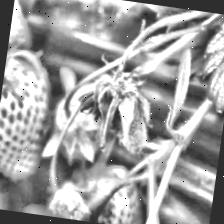Gray Mold: (70, 42, 162, 159)
